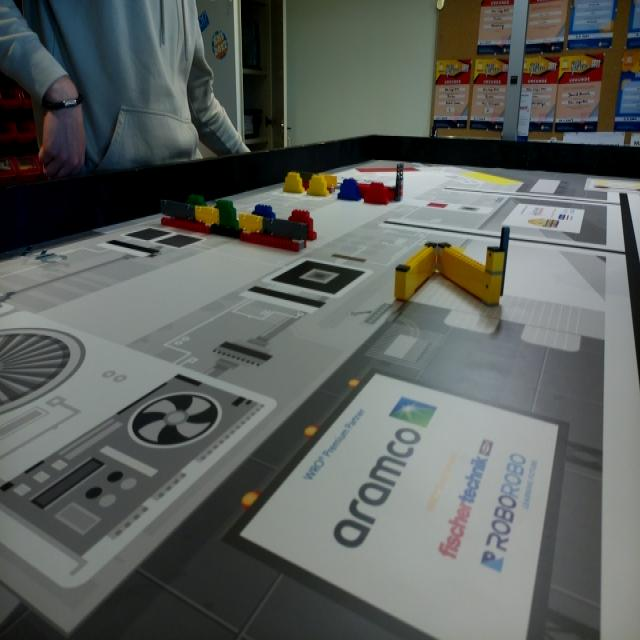blau: (340, 179, 360, 202), (251, 205, 271, 216)
gruen: (217, 199, 237, 224), (188, 194, 205, 206)
rot: (292, 207, 317, 238), (365, 182, 386, 204)
yellow: (308, 174, 325, 196), (286, 174, 304, 193)
